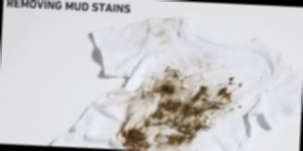earth: (155, 86, 211, 133), (121, 129, 151, 150), (154, 132, 194, 146), (213, 89, 232, 110), (226, 78, 243, 86)
